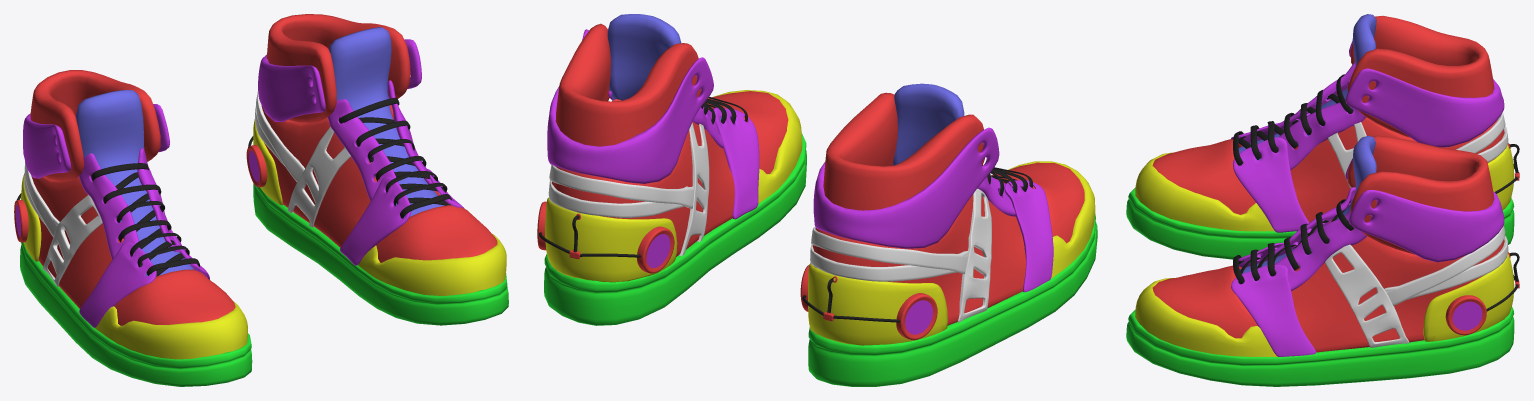
File: Male_shoes.glb
3 renders of one model, left to right at view 1: azimuth 30°, elevation 25°; view 2: azimuth 150°, elevation 25°; view 3: azimuth 270°, elevation 25°, orthographic. The views are drawn at different scales.
Visible parts, largest first — view 1: Male_Left_Shoe, Male_Right_Shoe; view 2: Male_Right_Shoe, Male_Left_Shoe; view 3: Male_Left_Shoe, Male_Right_Shoe.
Boxes of the visible parts, bbox=[...] form: Male_Left_Shoe: bbox=[246, 14, 508, 325]; Male_Right_Shoe: bbox=[14, 70, 252, 386]; Male_Right_Shoe: bbox=[800, 83, 1097, 386]; Male_Left_Shoe: bbox=[537, 14, 806, 325]; Male_Left_Shoe: bbox=[1126, 135, 1519, 386]; Male_Right_Shoe: bbox=[1126, 14, 1519, 259].
Bounding box in the file's own units: 8.3 × 4.61 × 7.55.
